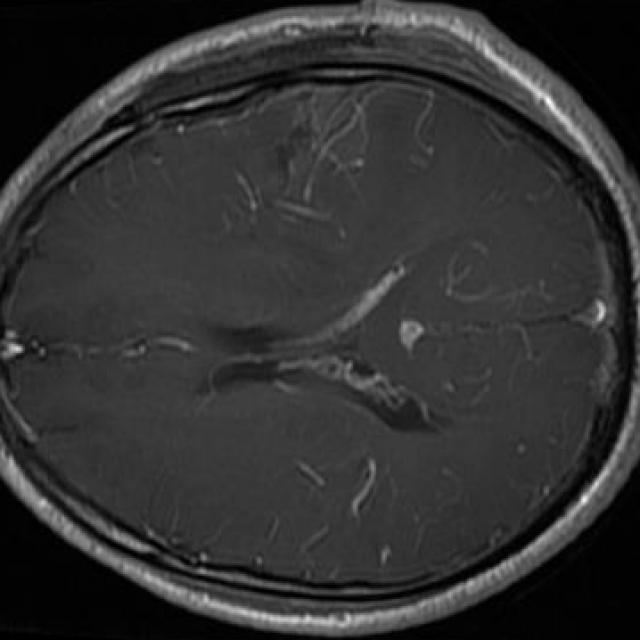glioma: (269, 86, 374, 225)
